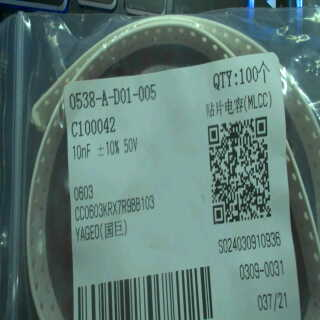10nF: (68, 140, 93, 163)
